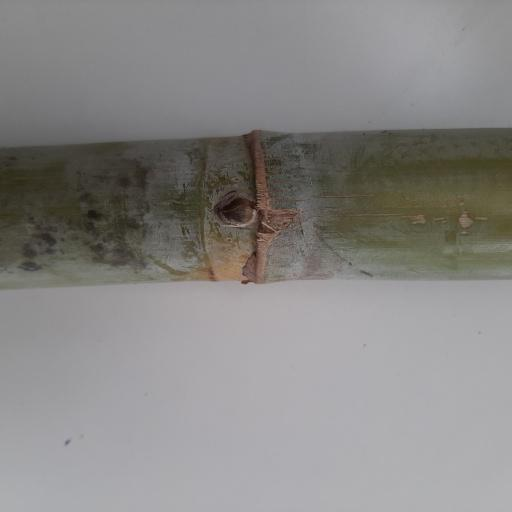Bud: (217, 194, 254, 227)
